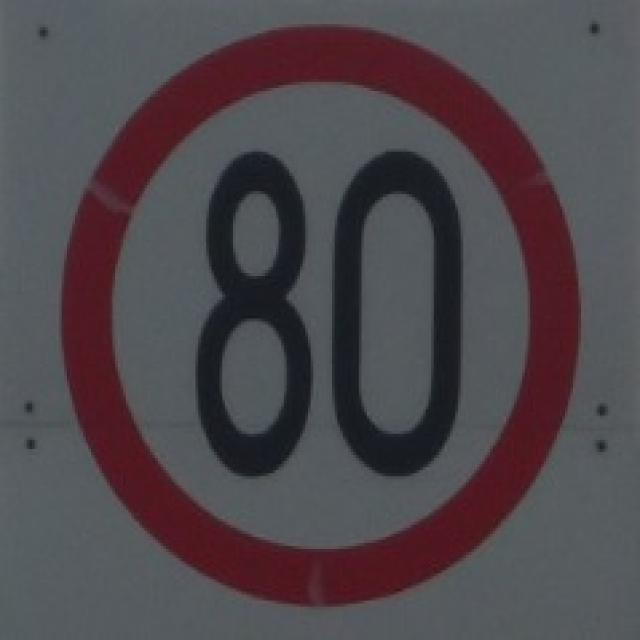Speed Limit -80-: (192, 145, 464, 485)
